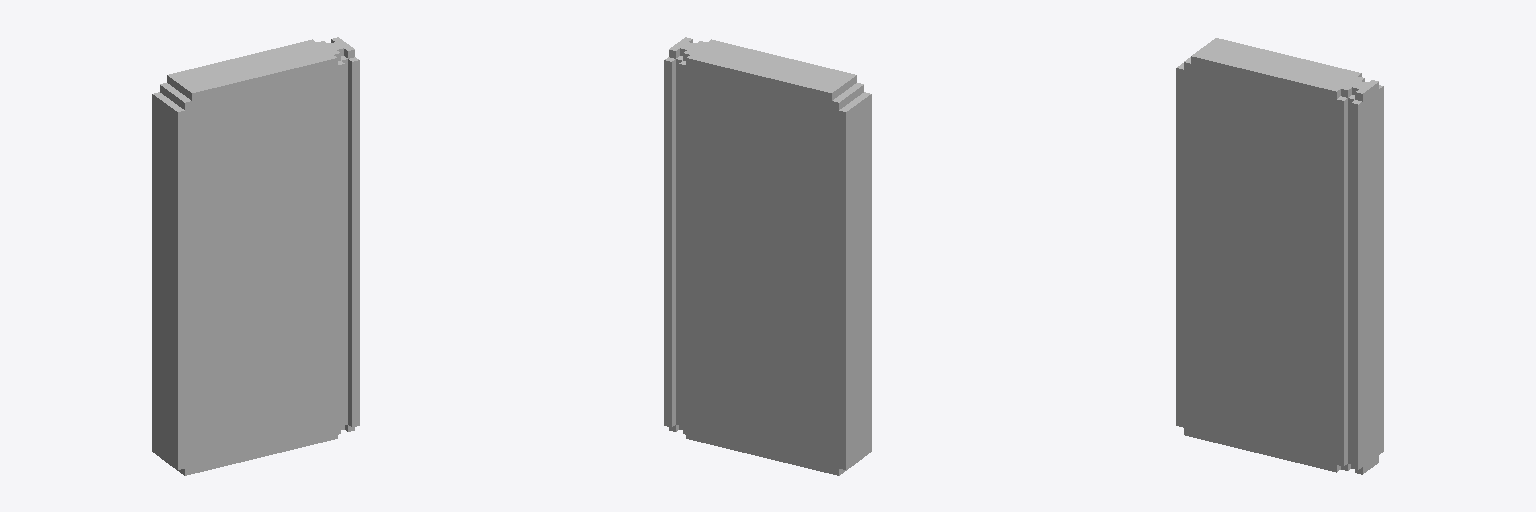
Rendered from door 1 cкин право 1.obj.
3 renders of one model, left to right at view 1: azimuth 30°, elevation 25°; view 2: azimuth 150°, elevation 25°; view 3: azimuth 330°, elevation 25°, orthographic.
Visible parts, largest first — view 1: object 1; view 2: object 1; view 3: object 1.
Part boxes in pixels (bbox=[...]): object 1: bbox=[152, 37, 359, 475]; object 1: bbox=[664, 37, 871, 475]; object 1: bbox=[1176, 38, 1383, 474].
Size of the model in its own units: 2.5 by 5 by 0.6.